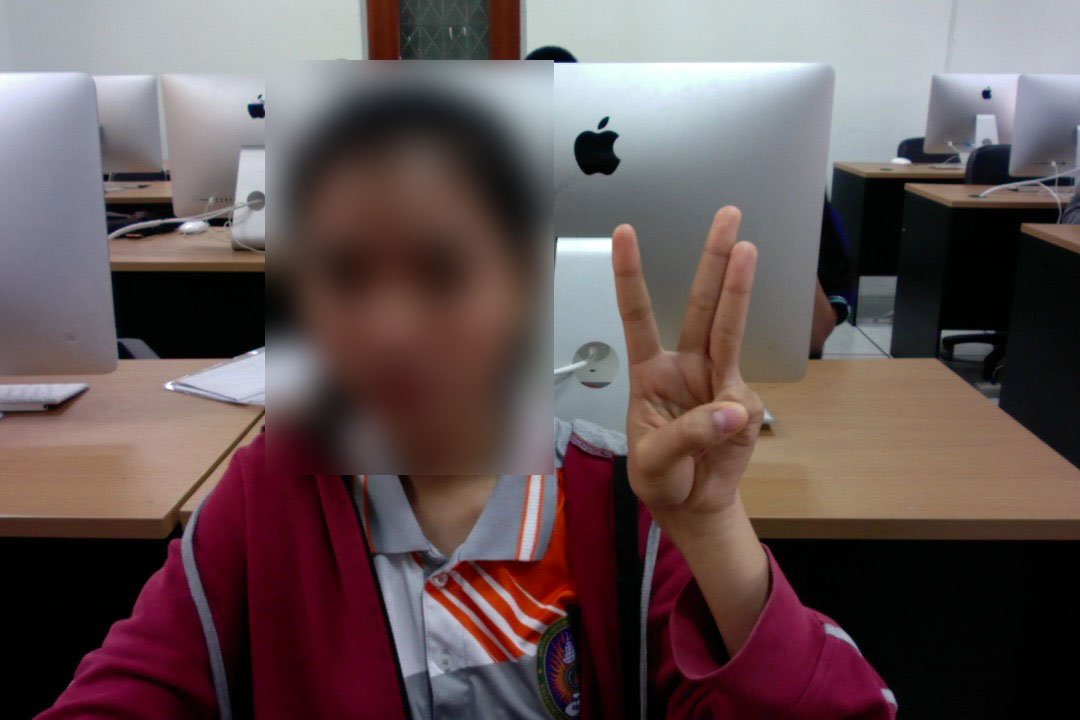wor: (580, 200, 776, 524)
